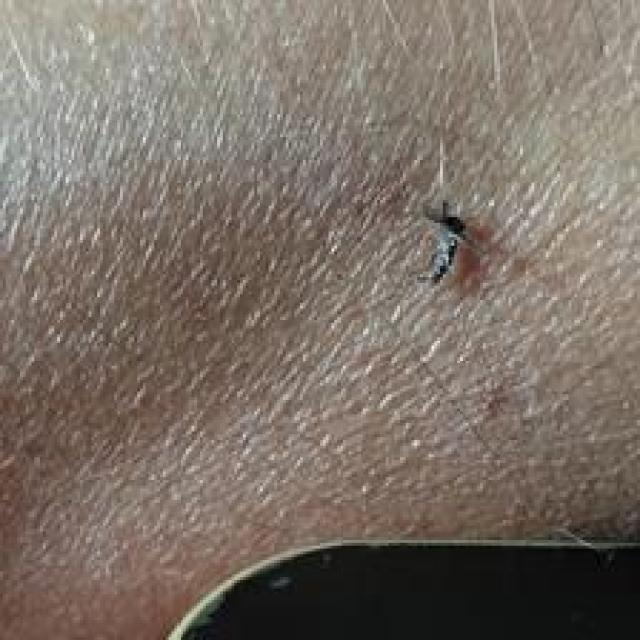Aedes albopictus: (419, 197, 470, 286)
